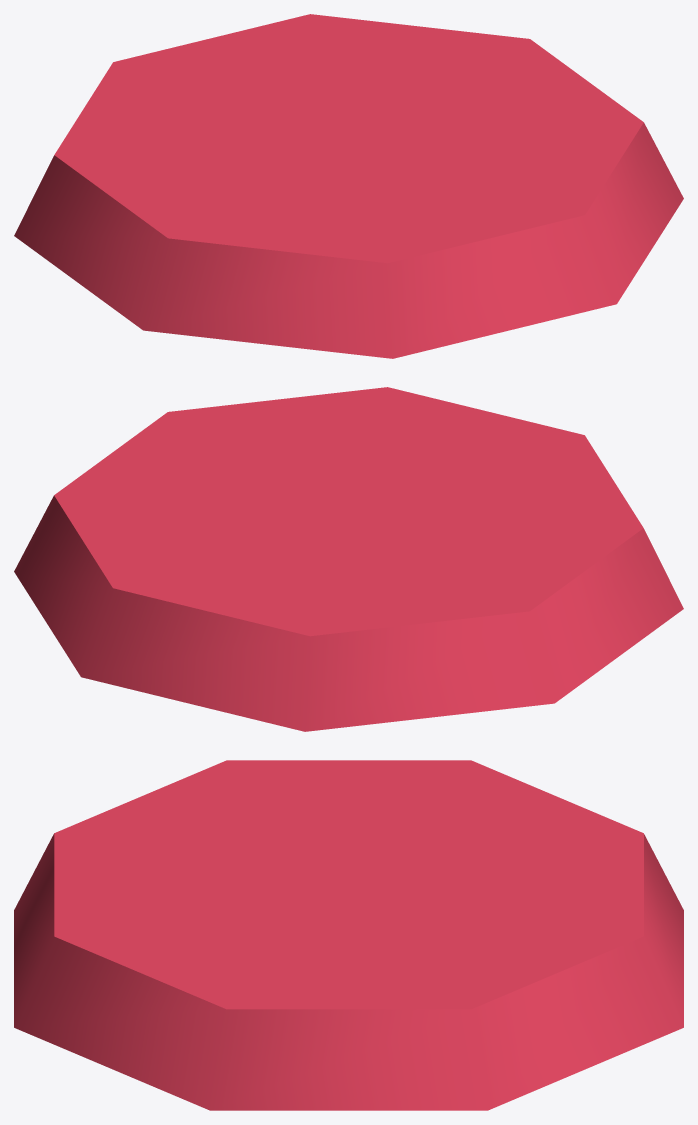
Rendered from Itr_Barchair_Base_01.FBX.
The picture shows the model from 3 angles, top to bottom: view 1: azimuth 30°, elevation 25°; view 2: azimuth 150°, elevation 25°; view 3: azimuth 270°, elevation 25°; orthographic projection. The views are drawn at different scales.
Visible parts, largest first — view 1: Itr_Barchair_Base_01; view 2: Itr_Barchair_Base_01; view 3: Itr_Barchair_Base_01.
Part boxes in pixels (left/top/right/bottom): Itr_Barchair_Base_01: left=14, top=14, right=683, bottom=358; Itr_Barchair_Base_01: left=14, top=387, right=683, bottom=731; Itr_Barchair_Base_01: left=14, top=760, right=683, bottom=1110.
Size of the model in its own units: 12.19 by 1.69 by 12.19.
